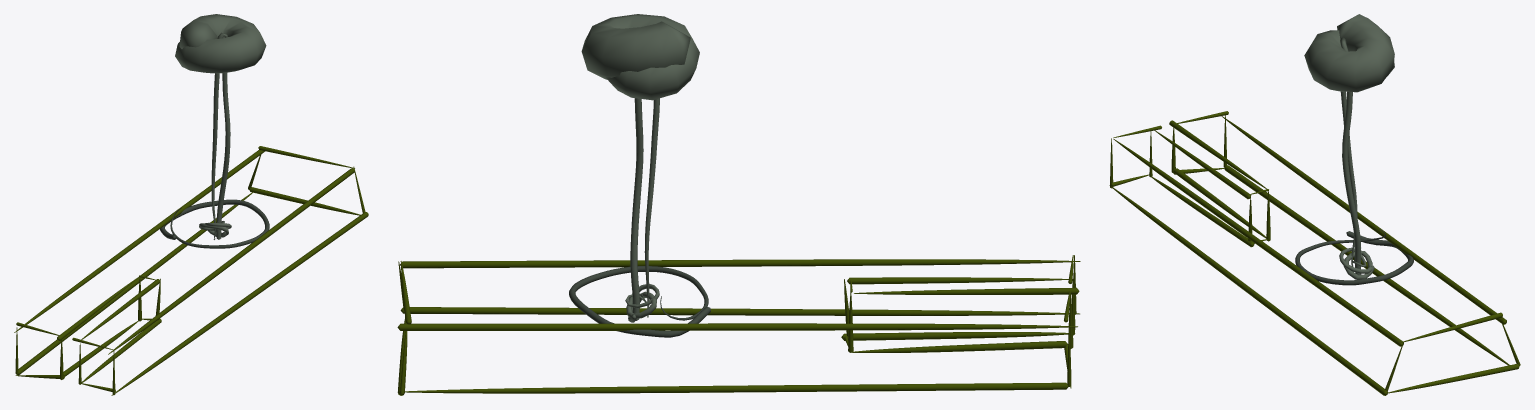
3 renders of one model, left to right at view 1: azimuth 30°, elevation 25°; view 2: azimuth 150°, elevation 25°; view 3: azimuth 270°, elevation 25°, orthographic. The views are drawn at different scales.
Parts seen in each view (by area): view 1: Toon_geo; view 2: Toon_geo; view 3: Toon_geo.
Boxes of the visible parts, x1,y1,x2,y2 form: Toon_geo: (14,14,368,395); Toon_geo: (397,14,1080,395); Toon_geo: (1109,14,1520,395).
Bounding box in the file's own units: 1.08 × 0.6095 × 0.7959.
